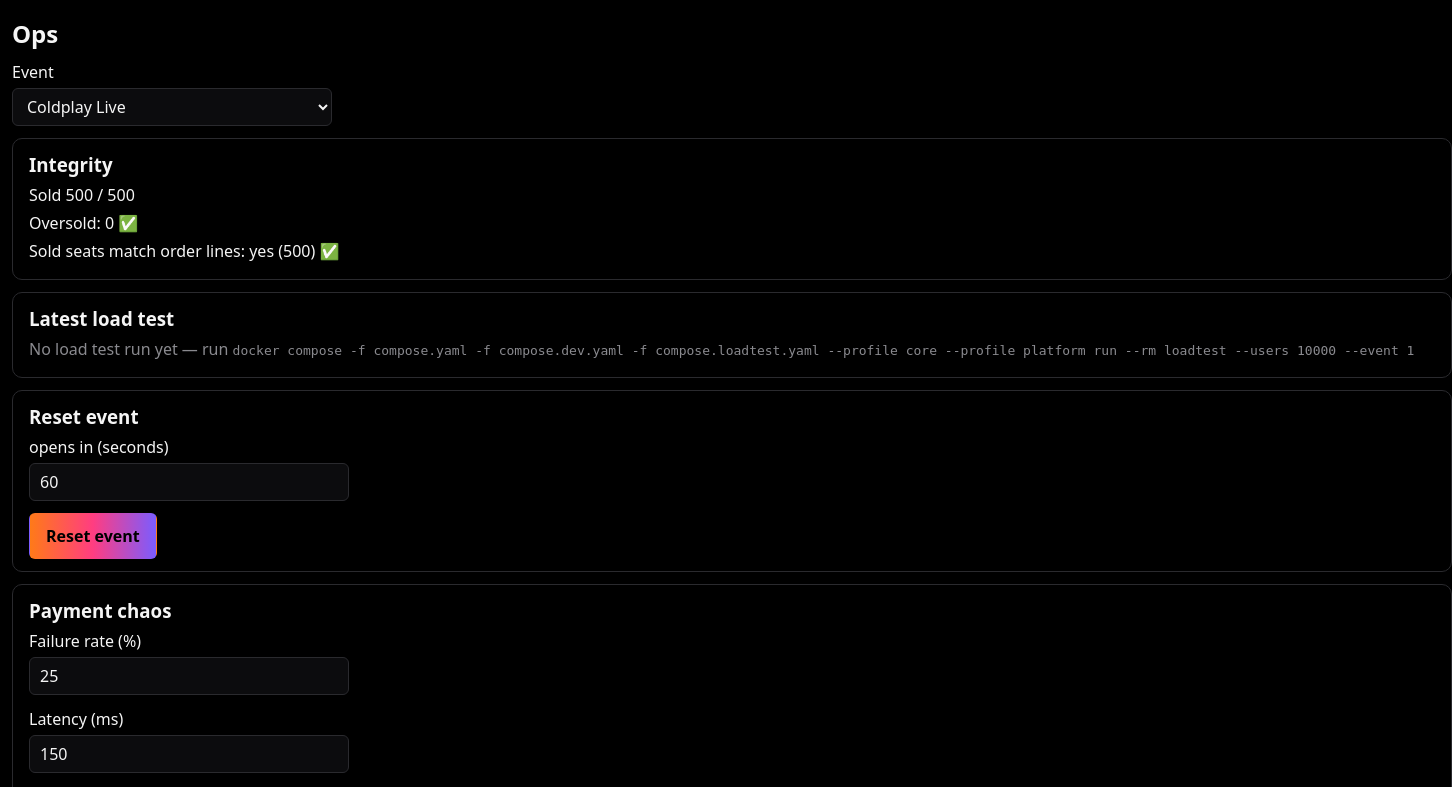
Test: OpsPage › shows chaos settings as percentages and saves edits
Expected: the number field labelled "Latency (ms)" holds "150", [29,735,349,773]
Replace the text in the number field labelled "Failure rate (%)" with "40" at (189, 676), box [29,657,349,695]
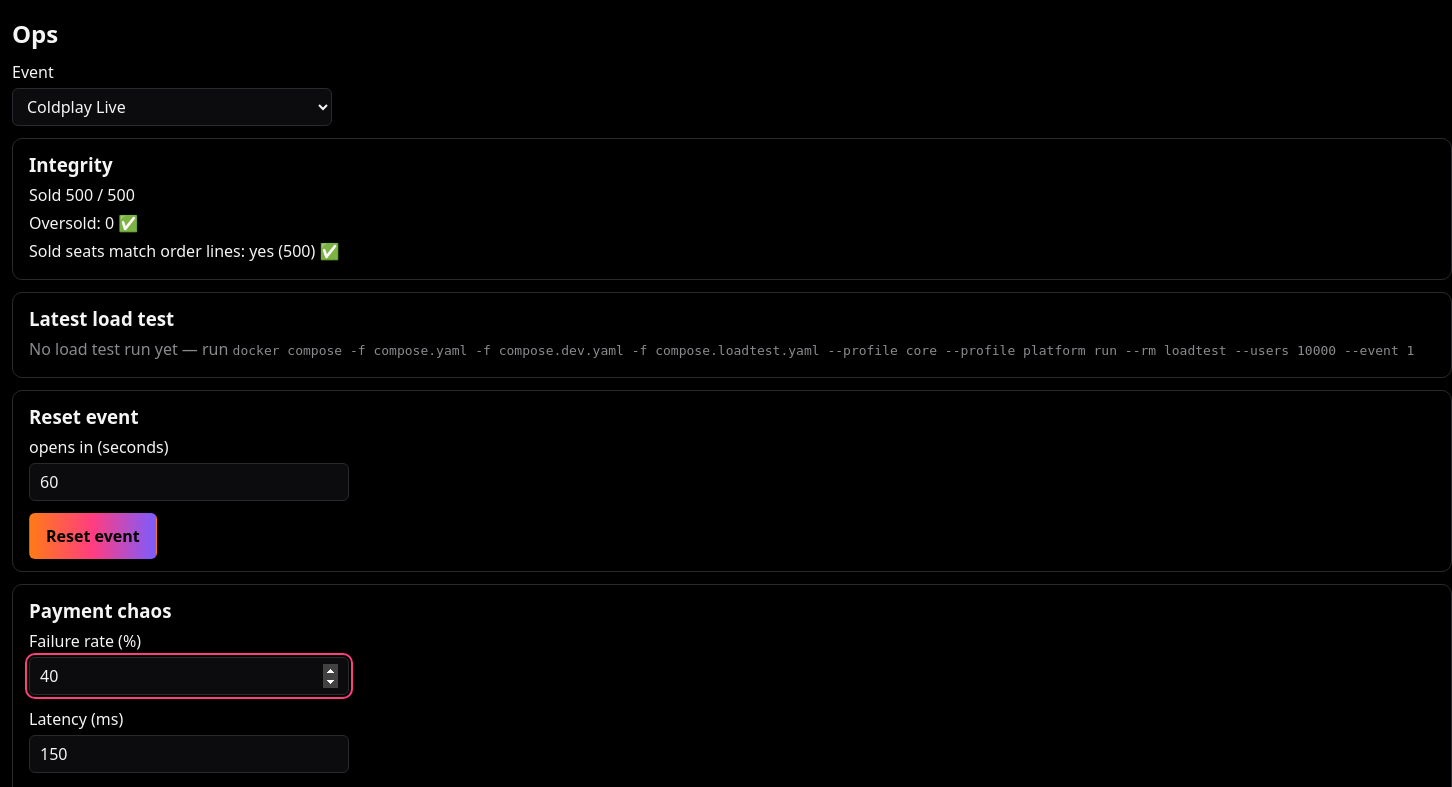
Replace the text in the number field labelled "Latency (ms)" with "800" at (189, 754), box [29,735,349,773]
(page scrolled)
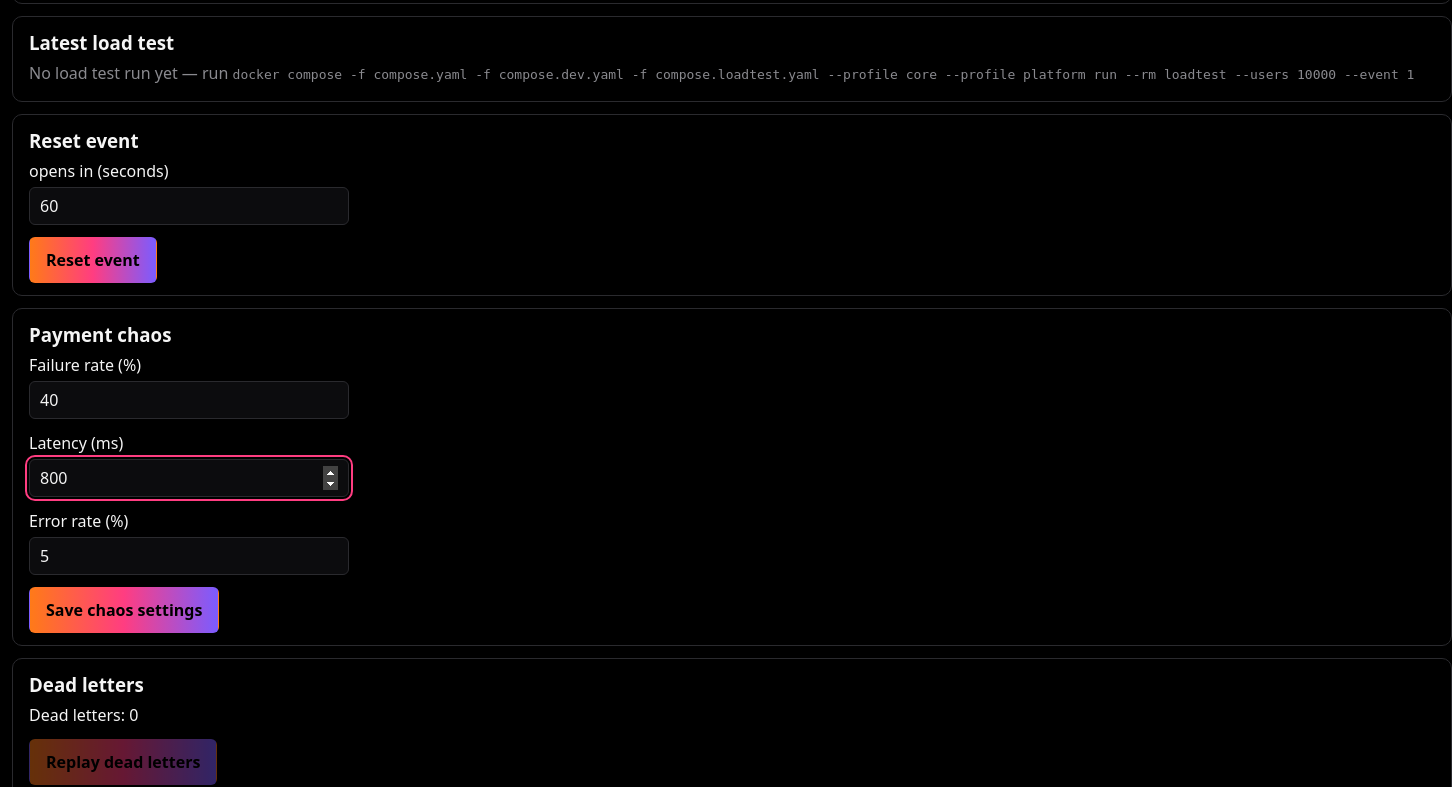
Click the button "Save chaos settings".
click(124, 610)  # box [29,587,219,633]
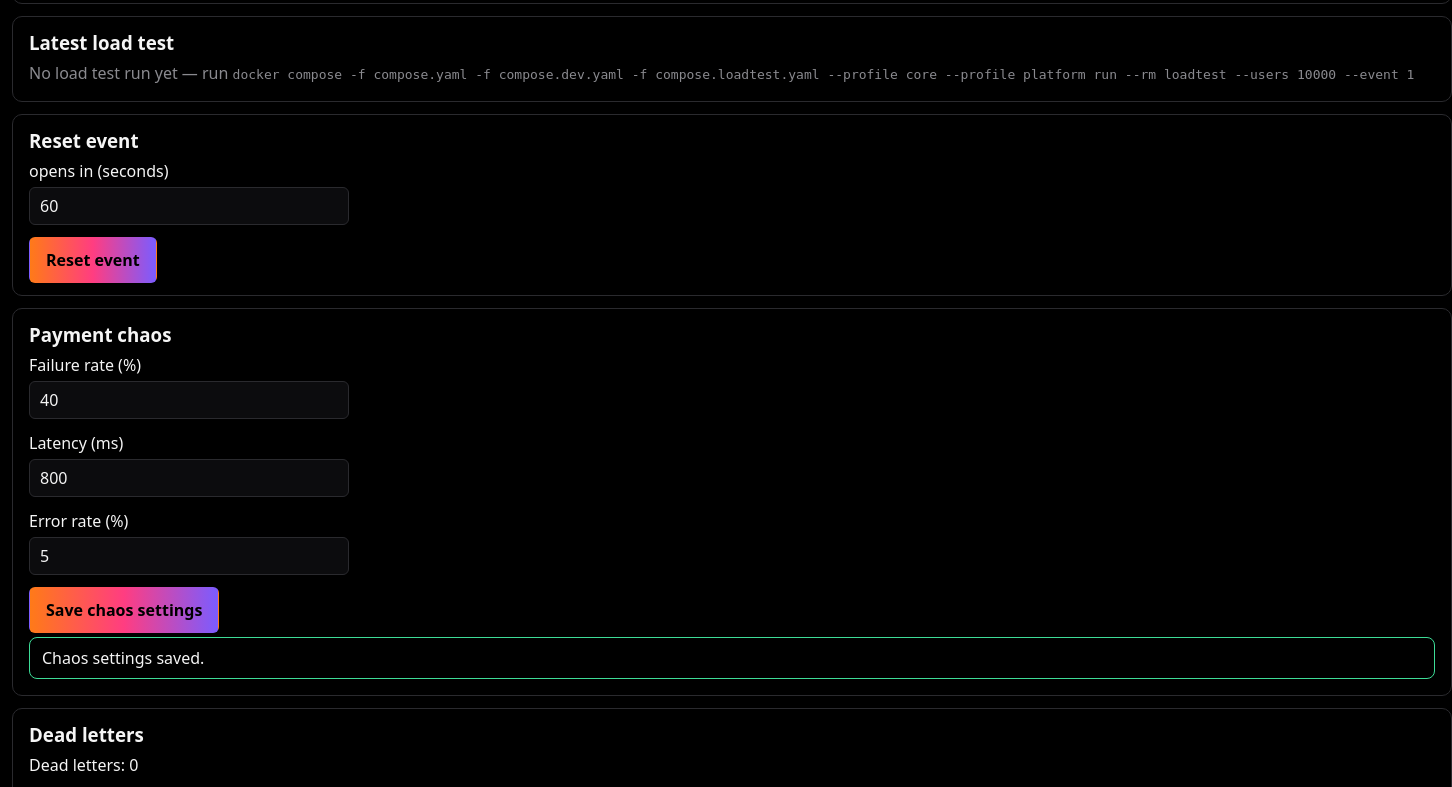
Expected: the text "Chaos settings saved." is shown, [29,637,1435,679]
